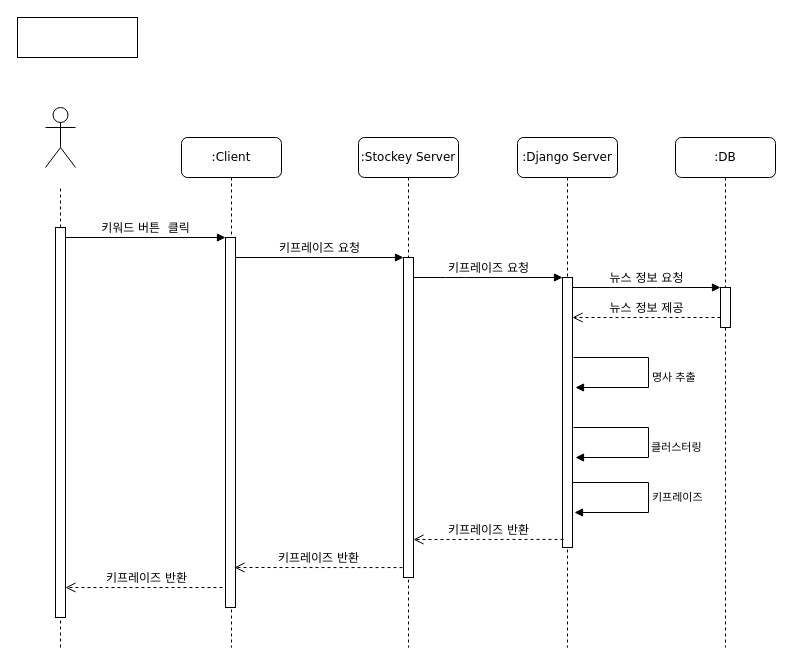
This 793x666 diagram has some shape labels left out. The centre of each missing label's shape, as x and y in pixels:
Actor: the point at 60,137
Keyphrase: the point at 77,37
